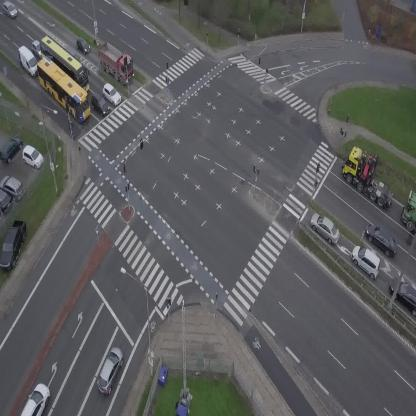bus: (29, 53, 100, 123), (32, 34, 98, 93)
car: (360, 219, 404, 260), (93, 345, 127, 396), (345, 242, 386, 280), (305, 210, 345, 246), (20, 380, 54, 416), (98, 81, 124, 107), (87, 91, 112, 118), (71, 35, 93, 57), (66, 46, 82, 60), (31, 40, 39, 58)
lorry: (333, 142, 409, 211), (88, 37, 143, 88), (12, 43, 43, 80), (402, 192, 416, 232)
